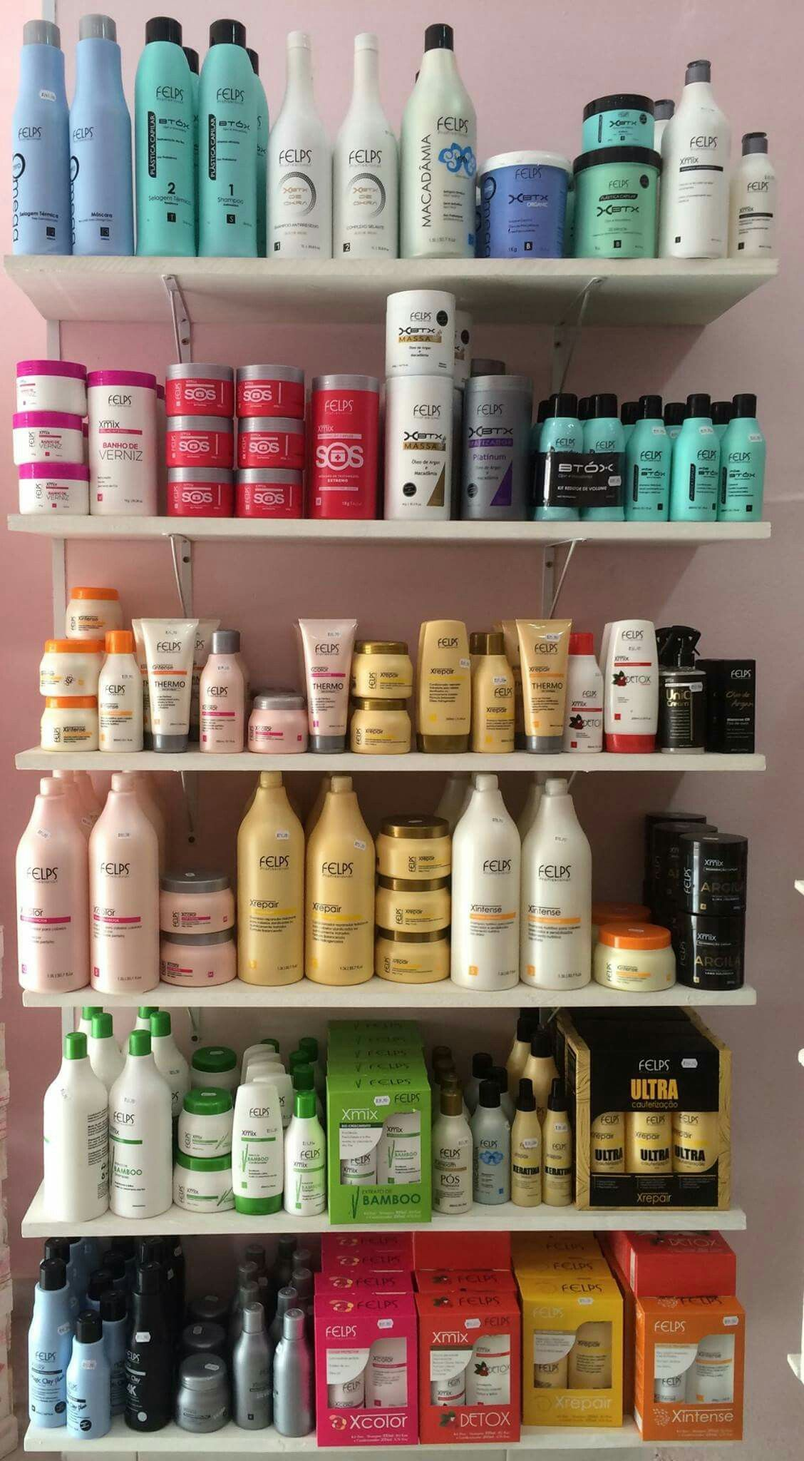Shampoo: (452, 773, 520, 996), (90, 773, 158, 994), (267, 32, 331, 258), (109, 1030, 171, 1217)
